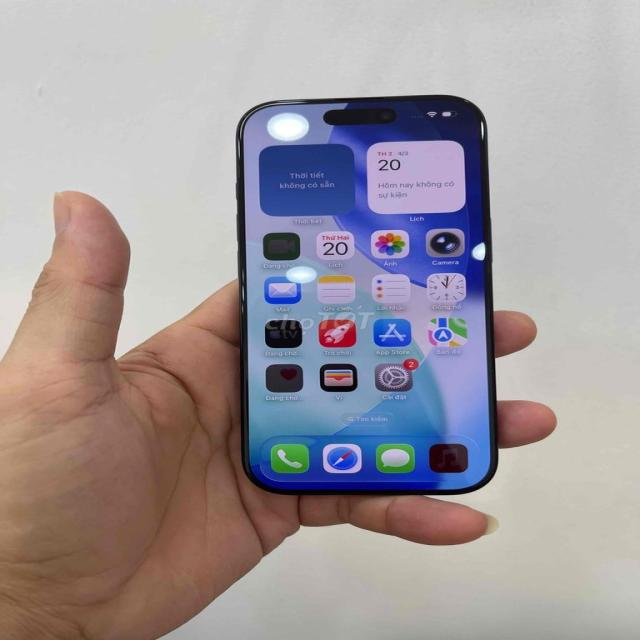gen_16: (237, 96, 496, 494)
